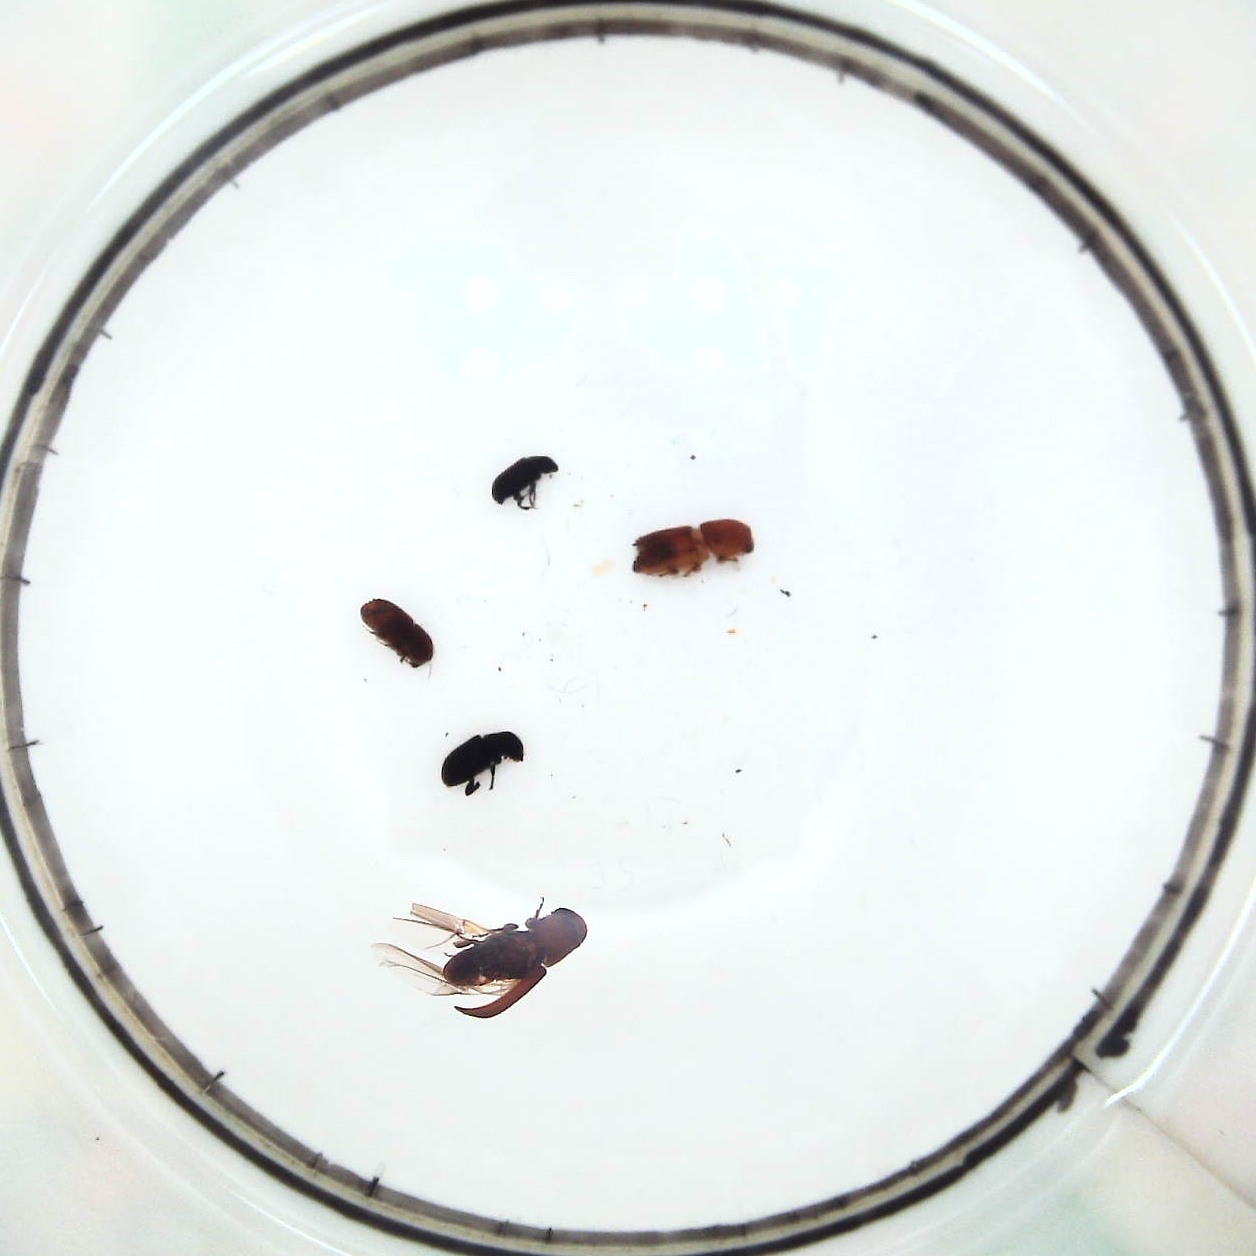Boerner: (631, 518, 755, 581)
Leconte: (388, 902, 591, 1020)
Linnaeus: (358, 593, 430, 671)
armandi: (439, 723, 521, 797)
coleoptera: (492, 451, 560, 514)
